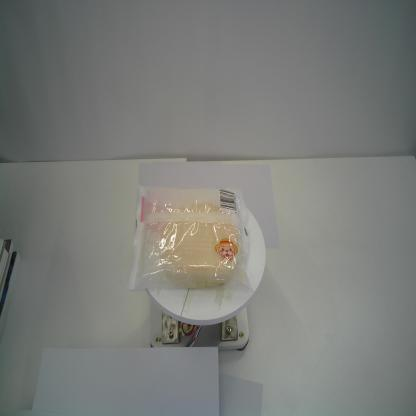Dessert: (128, 179, 257, 299)
